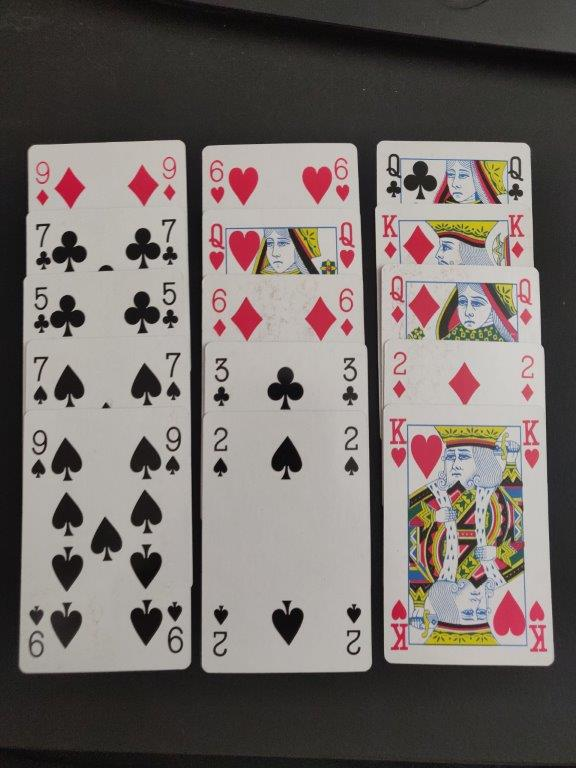2D: (389, 345, 416, 407), (514, 352, 541, 407)
2S: (208, 419, 234, 486), (337, 418, 365, 480)
3C: (208, 353, 239, 412), (334, 352, 362, 414)
5C: (29, 282, 55, 343), (157, 275, 183, 336)
6D: (207, 283, 234, 340), (335, 282, 359, 338)
6H: (328, 151, 357, 204), (207, 155, 229, 213)
7C: (158, 215, 185, 270), (30, 221, 56, 271)
7S: (161, 344, 187, 409), (27, 349, 53, 407)
9D: (29, 156, 59, 210), (155, 151, 184, 206)
9S: (160, 420, 186, 483), (29, 426, 52, 487)
KD: (503, 210, 532, 261), (380, 210, 404, 262)
KH: (387, 414, 414, 475), (518, 414, 545, 470)
QC: (503, 151, 528, 205), (383, 147, 406, 202)
QD: (384, 270, 411, 330), (515, 272, 538, 334)
QH: (334, 215, 360, 273), (207, 218, 230, 276)
